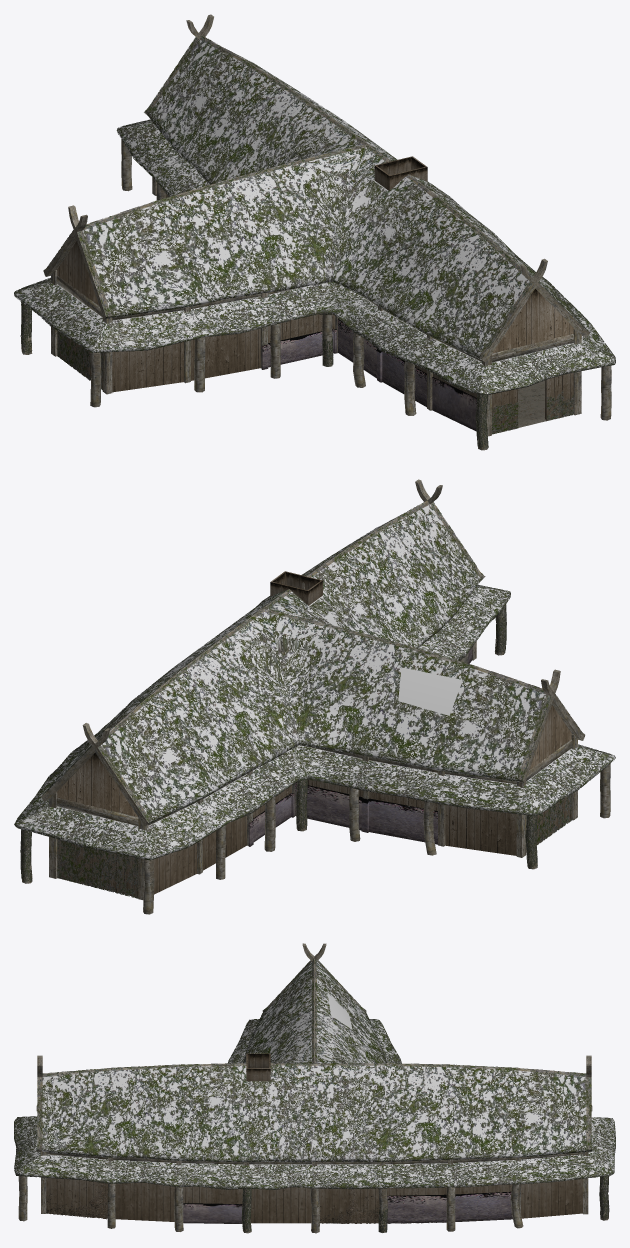
Rendered from T-House_LOD01.fbx.
The picture shows the model from 3 angles, top to bottom: view 1: azimuth 30°, elevation 25°; view 2: azimuth 150°, elevation 25°; view 3: azimuth 270°, elevation 25°; orthographic projection. The views are drawn at different scales.
Visible parts, largest first — view 1: Decals_LOD01_Longhouse.002, T-House_LOD1_Longhouse; view 2: Decals_LOD01_Longhouse.002, T-House_LOD1_Longhouse; view 3: Decals_LOD01_Longhouse.002, T-House_LOD1_Longhouse.
Part boxes in pixels (x1,y1,x2,y2): Decals_LOD01_Longhouse.002: [14, 35, 615, 448]; T-House_LOD1_Longhouse: [15, 14, 614, 450]; Decals_LOD01_Longhouse.002: [14, 501, 615, 898]; T-House_LOD1_Longhouse: [16, 479, 614, 914]; Decals_LOD01_Longhouse.002: [14, 959, 615, 1232]; T-House_LOD1_Longhouse: [14, 943, 615, 1233].
Size of the model in its own units: 1465 by 548 by 2216.
